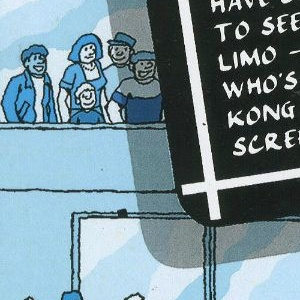Odlaw: (76, 122, 132, 178)
